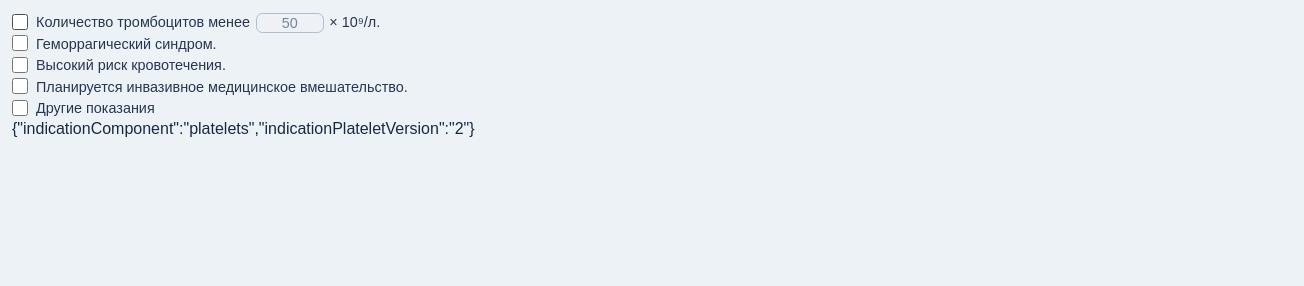
shows an editable textarea for Other indications and prints its wording
Click the checkbox labelled "Другие показания".
click(20, 108)  # box [12, 100, 28, 116]
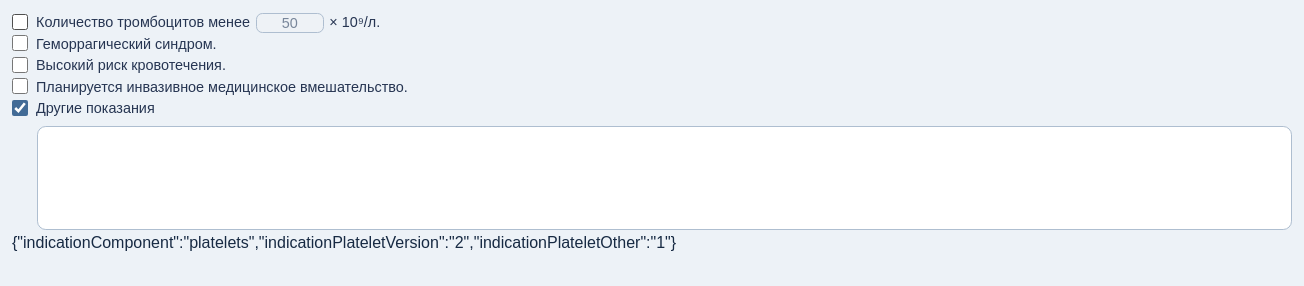
expect the checkbox labelled "Другие показания" is checked: met, box [12, 100, 28, 116]
expect the text box named "indicationPlateletOtherText" is shown: met
Type "  Индивидуальное показание пациента  " into the text box named "indicationPlateletOtherText".
click(664, 178); type("  Индивидуальное показание пациента  ")  # box [37, 126, 1292, 230]
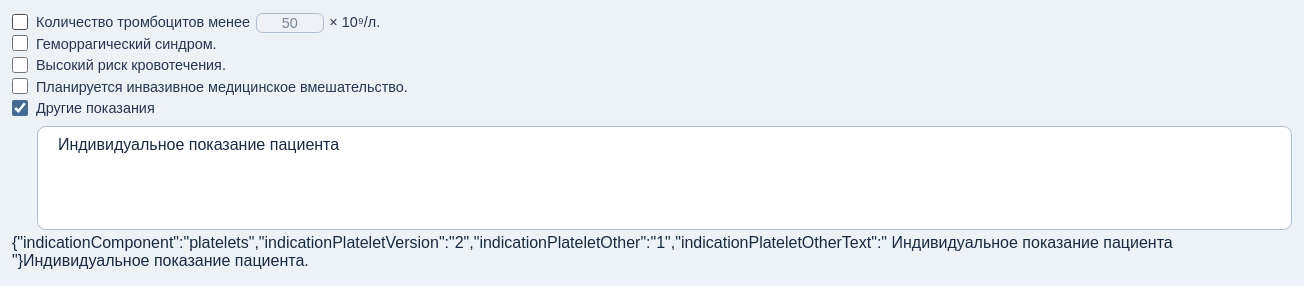
expect the text with test id "printed" reads "Индивидуальное показание пациента.": met, box [23, 252, 309, 269]
expect the text with test id "stored" shows "Индивидуальное показание пациента": met, box [12, 234, 1173, 269]
